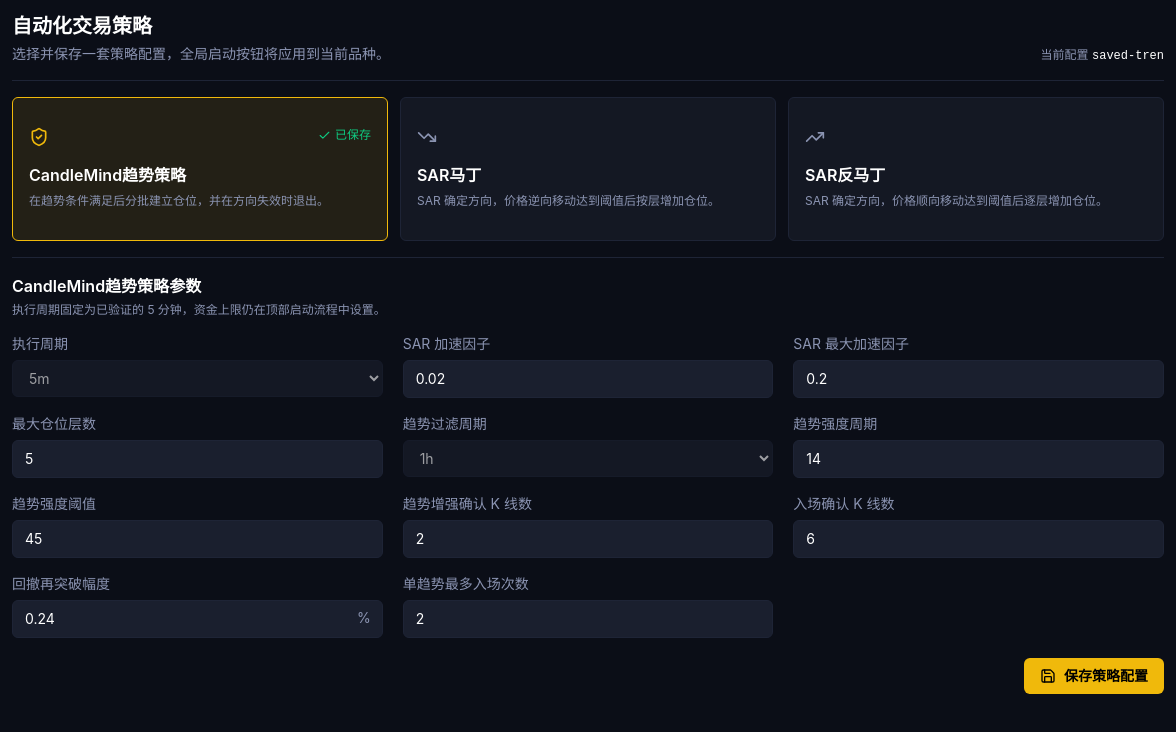
Test: Strategies › blocks invalid cross-field values before sending a request
This screenshot has width=1176, height=732.
Expected: the button "已保存 CandleMind趋势策略 在趋势条件满足后分批建立仓位，并在方向失效时退出。" is shown, [12, 97, 388, 241]
Step 1. Replace the text in the number field labelled "SAR 加速因子" with "0.1" → coordinates (588, 379), box [403, 360, 773, 398]
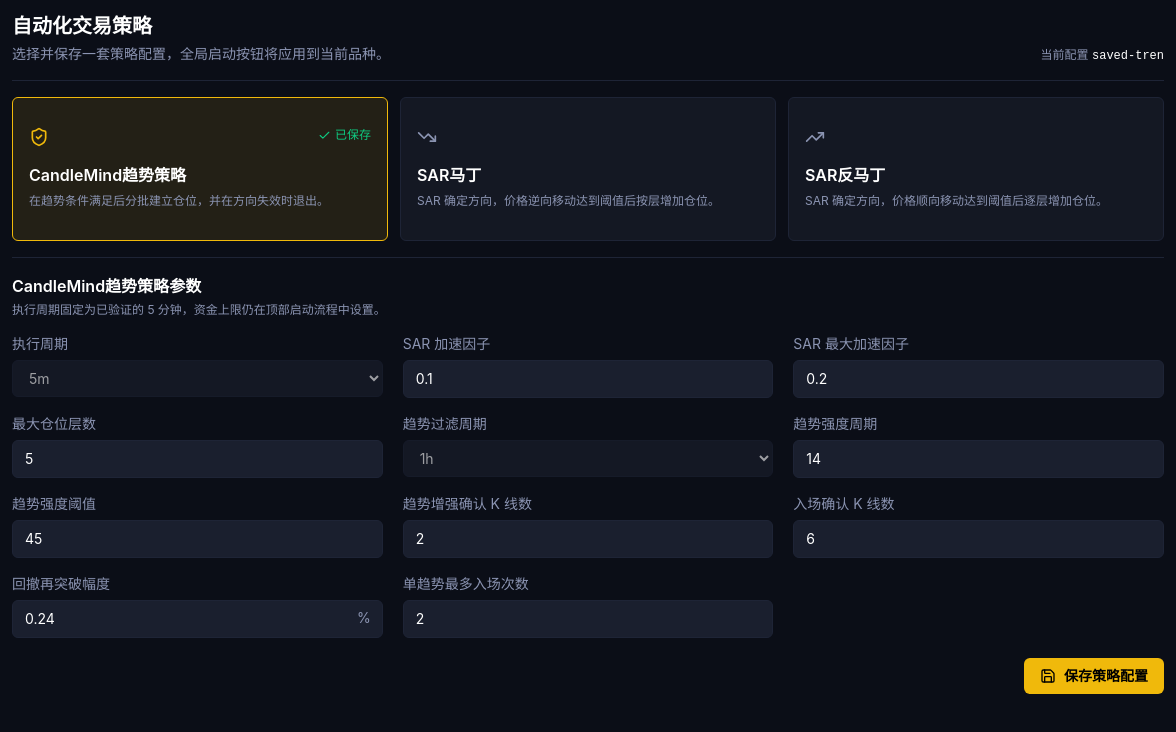
Step 2. Replace the text in the number field labelled "SAR 最大加速因子" with "0.05" → coordinates (979, 379), box [793, 360, 1164, 398]
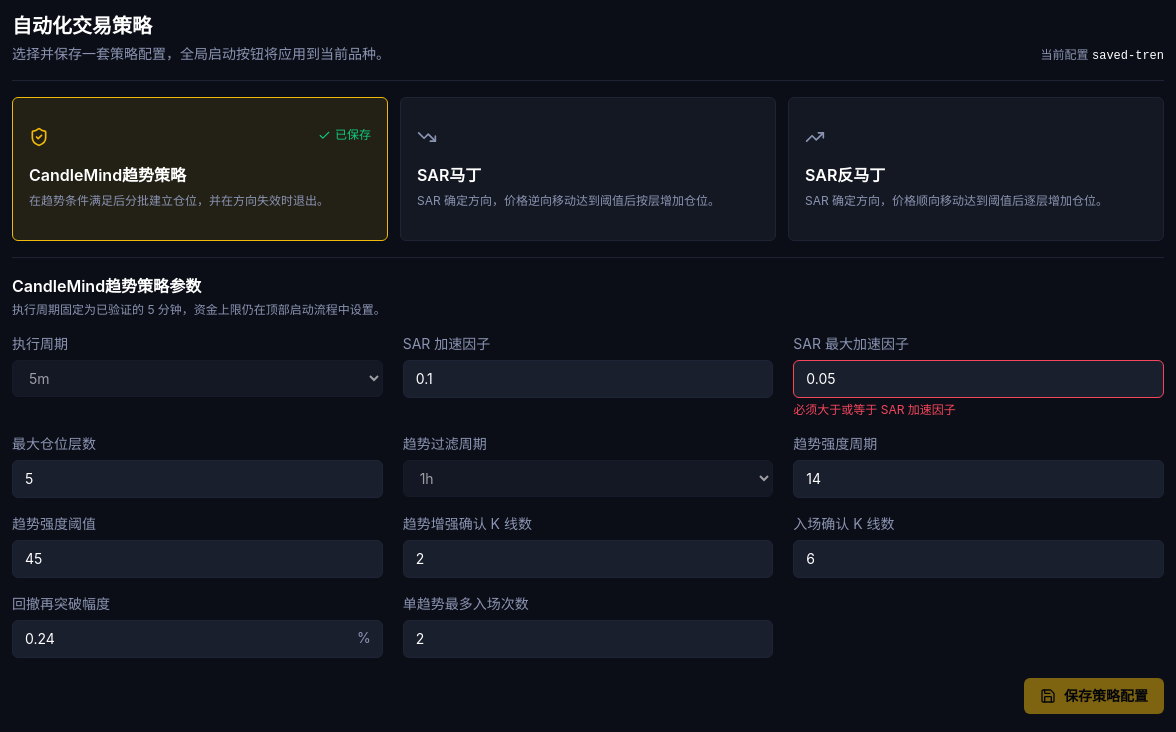
Result: the text "必须大于或等于 SAR 加速因子" is shown at [793, 402, 956, 417]
Result: the button "保存策略配置" is disabled at [1024, 678, 1164, 714]
